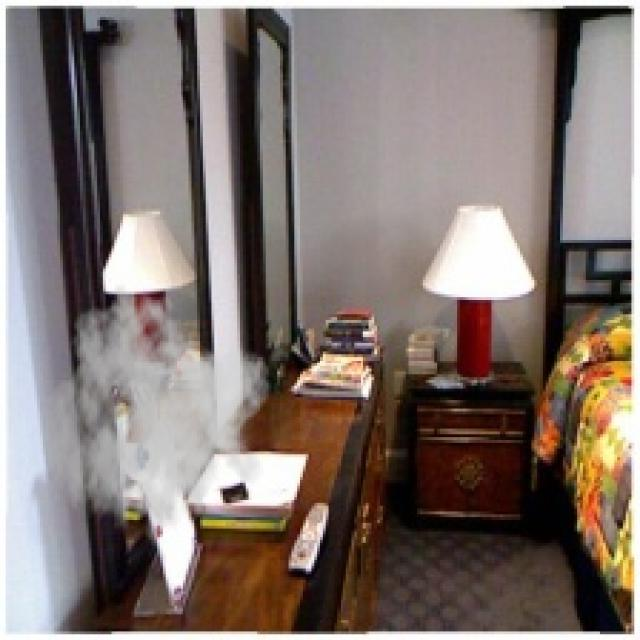smoke: (40, 283, 271, 563)
